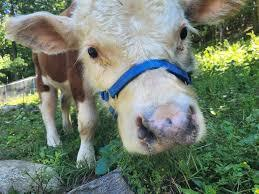cow: (5, 0, 245, 168)
